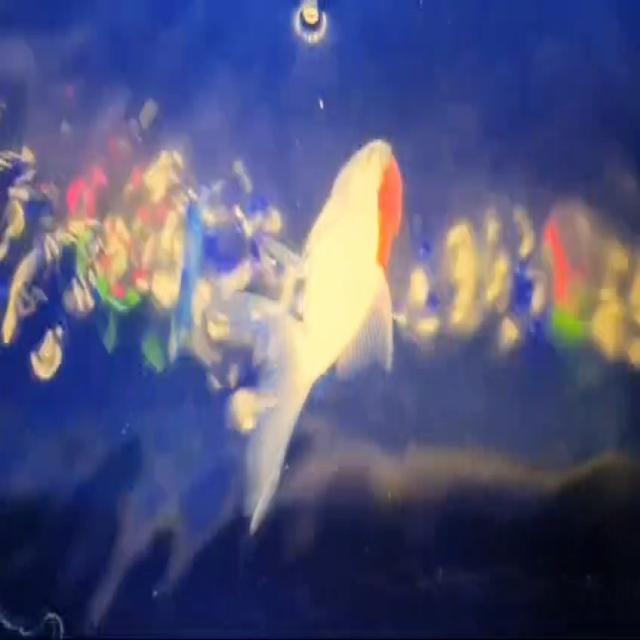fish: (245, 136, 409, 543)
